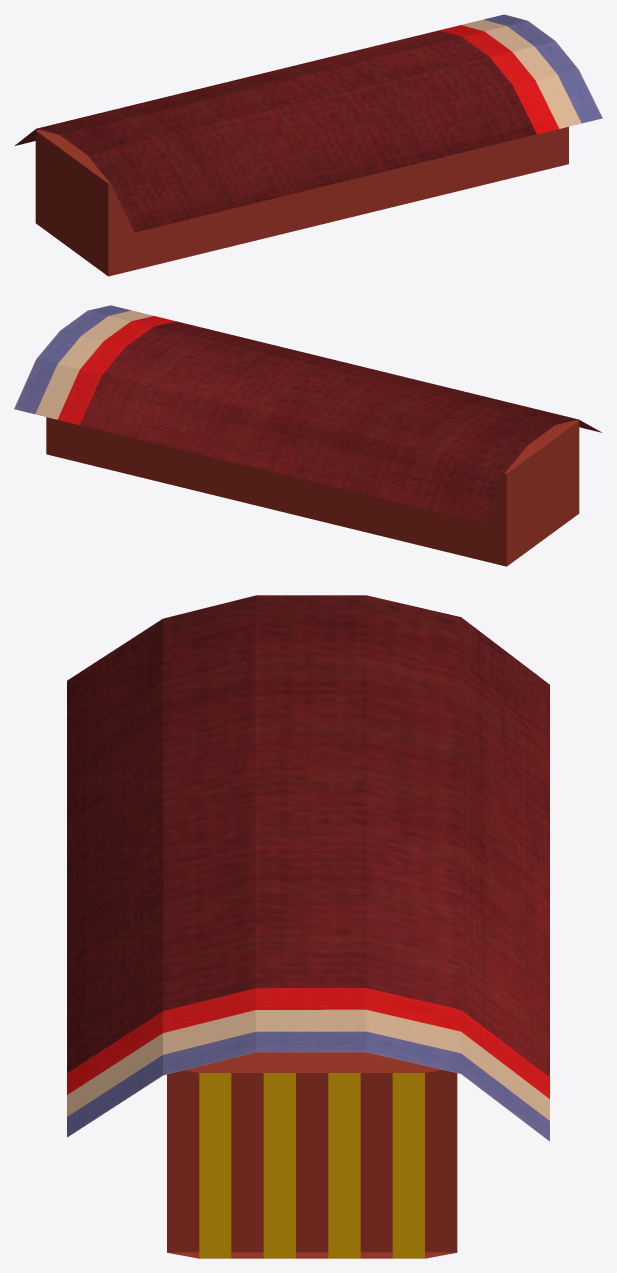
File: Tent2.fbx
3 views of the same model, one above another, from view 1: azimuth 30°, elevation 25°; view 2: azimuth 150°, elevation 25°; view 3: azimuth 270°, elevation 25° (orthographic). The views are drawn at different scales.
Parts seen in each view (by area): view 1: Plane, Cube; view 2: Plane, Cube; view 3: Plane, Cube.
Boxes of the visible parts, x1,y1,x2,y2 form: Plane: [15, 14, 602, 232]; Cube: [35, 126, 568, 276]; Plane: [14, 305, 601, 523]; Cube: [46, 417, 579, 566]; Plane: [67, 595, 549, 1141]; Cube: [167, 1052, 457, 1258].
Size of the model in its own units: 1510 by 322 by 673.
